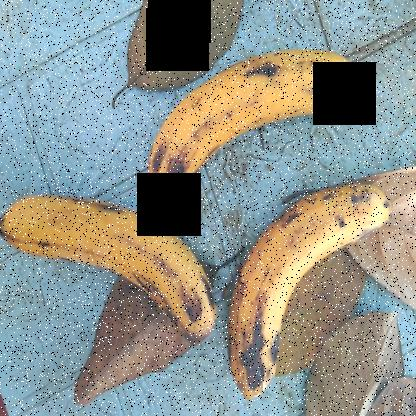overripe: (228, 166, 402, 402)
ripe: (147, 26, 383, 197), (1, 186, 225, 356)
